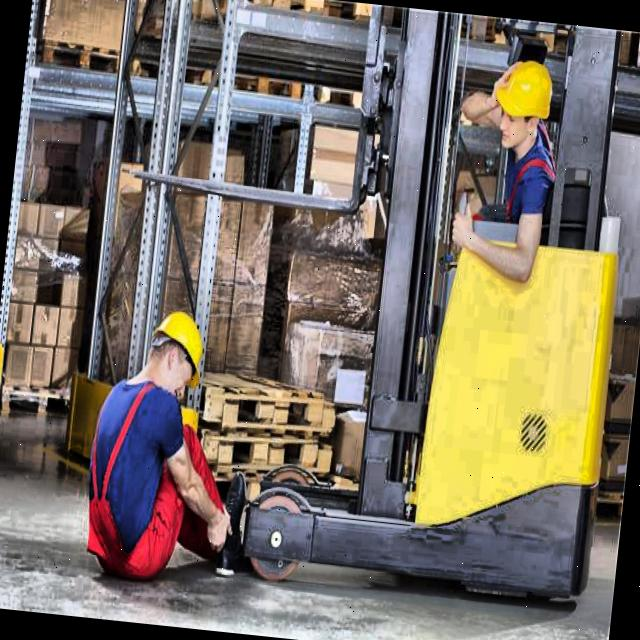helmet: (136, 292, 213, 411), (482, 52, 566, 156)
